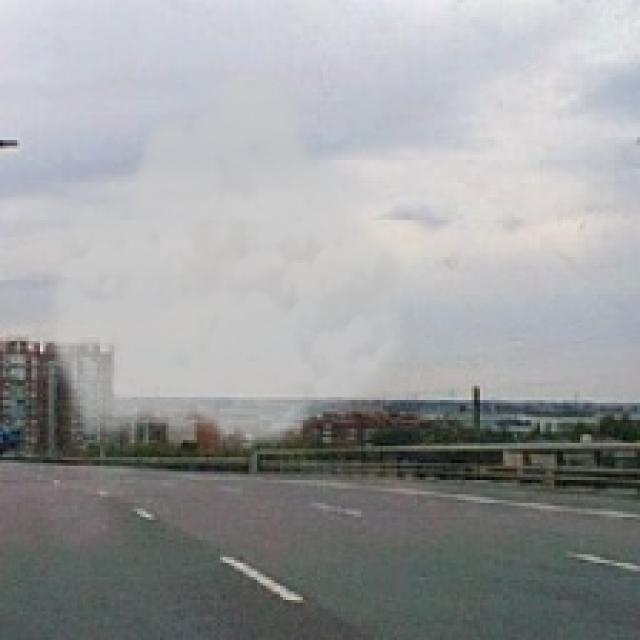smoke: (43, 63, 417, 451)
